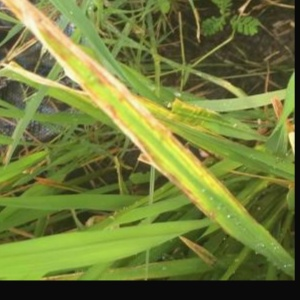Leaf_Blast: (114, 120, 176, 174)
